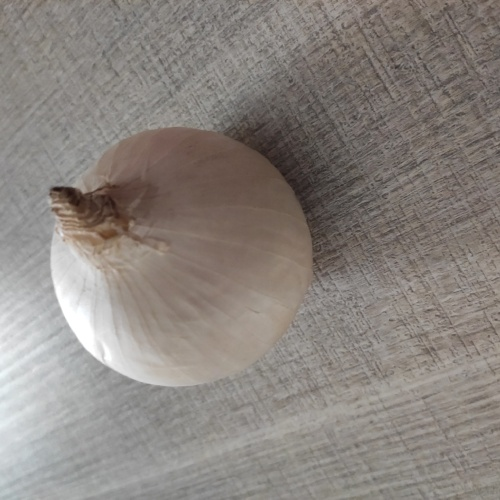cipolla: (32, 125, 333, 395)
